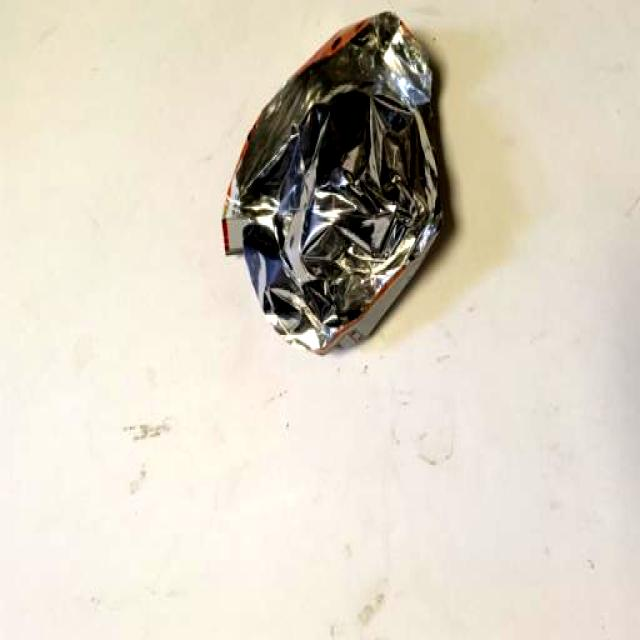Trash: (218, 6, 458, 362)
